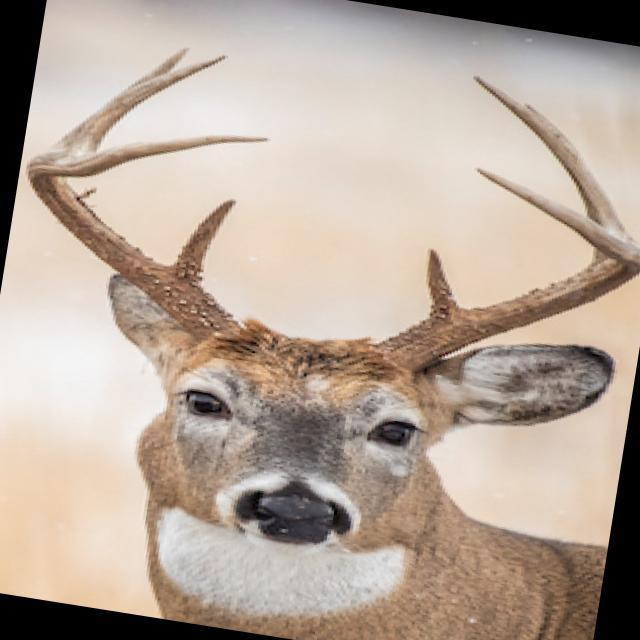L-F: (376, 167, 640, 374)
L-G1: (425, 247, 463, 317)
L-G3: (470, 71, 636, 247)
R-F: (25, 134, 273, 343)
R-G1: (168, 197, 239, 287)
R-G3: (49, 54, 230, 152)
